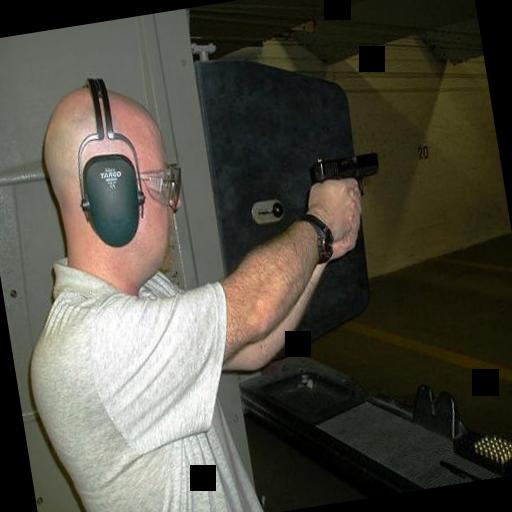Handgun: (304, 145, 383, 204)
